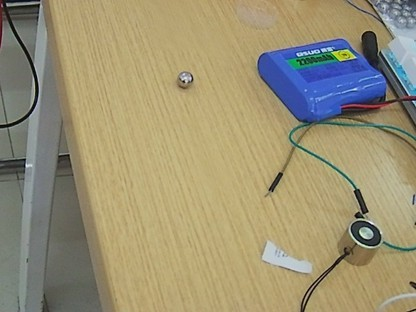ironball: (171, 65, 196, 91)
